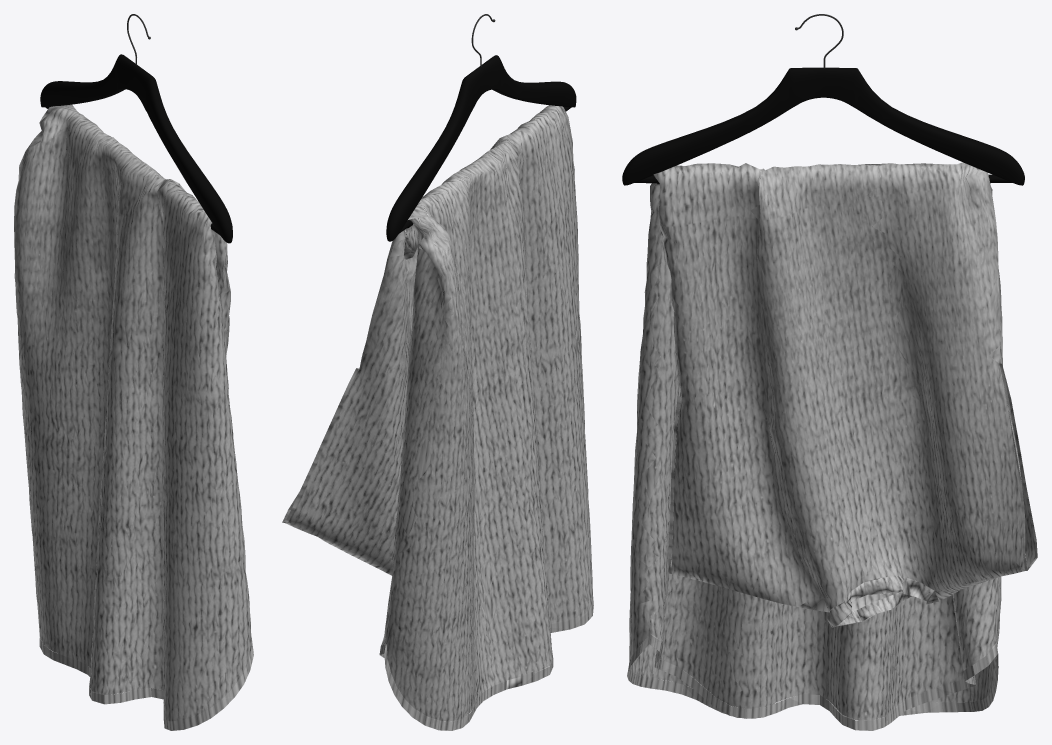
File: Dressed 2.FBX
The picture shows the model from 3 angles, left to right: view 1: azimuth 30°, elevation 25°; view 2: azimuth 150°, elevation 25°; view 3: azimuth 270°, elevation 25°; orthographic projection. The views are drawn at different scales.
Parts seen in each view (by area): view 1: dressed, hanger; view 2: dressed, hanger; view 3: dressed, hanger.
Boxes of the visible parts, x1=… form: dressed: x1=14, y1=104, x2=253, y2=730; hanger: x1=40, y1=14, x2=232, y2=243; dressed: x1=282, y1=105, x2=593, y2=730; hanger: x1=386, y1=14, x2=576, y2=241; dressed: x1=627, y1=162, x2=1037, y2=730; hanger: x1=622, y1=14, x2=1024, y2=185.
Bounding box in the file's own units: 224 × 460 × 876.
